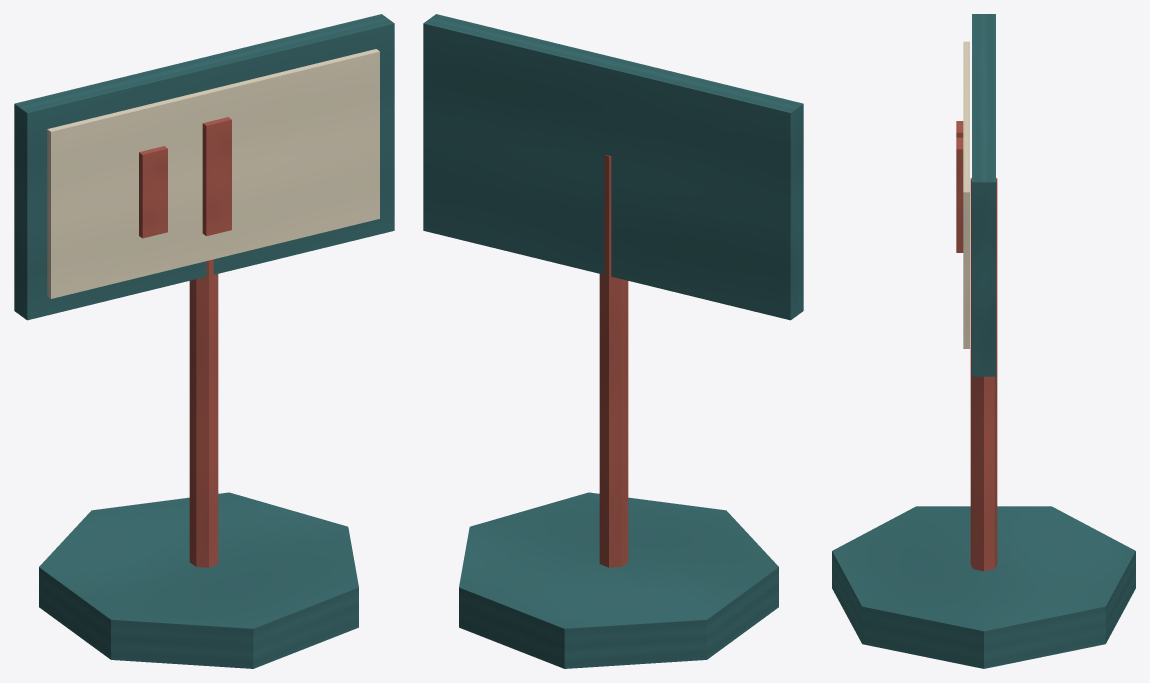
The model's file is atlas100-s031-a11.lod1.glb.
3 renders of one model, left to right at view 1: azimuth 30°, elevation 25°; view 2: azimuth 150°, elevation 25°; view 3: azimuth 270°, elevation 25°, orthographic. The views are drawn at different scales.
Visible parts, largest first — view 1: atlas100-s031-a11:part-003, atlas100-s031-a11:part-000, atlas100-s031-a11:part-002, atlas100-s031-a11:part-001, atlas100-s031-a11:part-005, atlas100-s031-a11:part-004; view 2: atlas100-s031-a11:part-002, atlas100-s031-a11:part-000, atlas100-s031-a11:part-001; view 3: atlas100-s031-a11:part-000, atlas100-s031-a11:part-002, atlas100-s031-a11:part-001, atlas100-s031-a11:part-003, atlas100-s031-a11:part-005.
Part boxes in pixels (x1=…): atlas100-s031-a11:part-003: x1=47, y1=49, x2=379, y2=298; atlas100-s031-a11:part-000: x1=39, y1=492, x2=358, y2=668; atlas100-s031-a11:part-002: x1=14, y1=14, x2=394, y2=320; atlas100-s031-a11:part-001: x1=189, y1=259, x2=218, y2=567; atlas100-s031-a11:part-005: x1=202, y1=117, x2=231, y2=236; atlas100-s031-a11:part-004: x1=139, y1=146, x2=167, y2=238; atlas100-s031-a11:part-002: x1=423, y1=14, x2=803, y2=320; atlas100-s031-a11:part-000: x1=459, y1=492, x2=778, y2=668; atlas100-s031-a11:part-001: x1=599, y1=154, x2=628, y2=567; atlas100-s031-a11:part-000: x1=832, y1=506, x2=1135, y2=668; atlas100-s031-a11:part-002: x1=972, y1=14, x2=995, y2=376; atlas100-s031-a11:part-001: x1=970, y1=178, x2=997, y2=571; atlas100-s031-a11:part-003: x1=963, y1=41, x2=969, y2=348; atlas100-s031-a11:part-005: x1=956, y1=137, x2=963, y2=252.
Bounding box in the file's own units: 1.15 × 1.61 × 0.8774.
3 materials, 3 textured.
